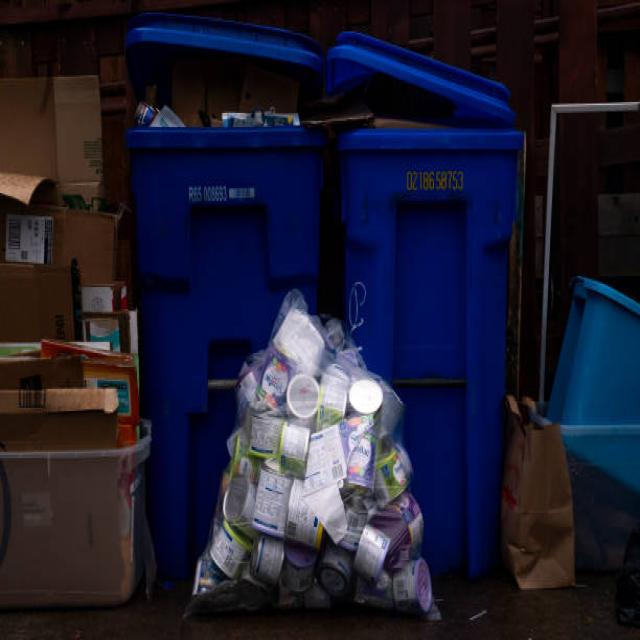cardboard: (4, 78, 130, 441), (506, 407, 572, 580)
metal: (181, 320, 407, 602)
